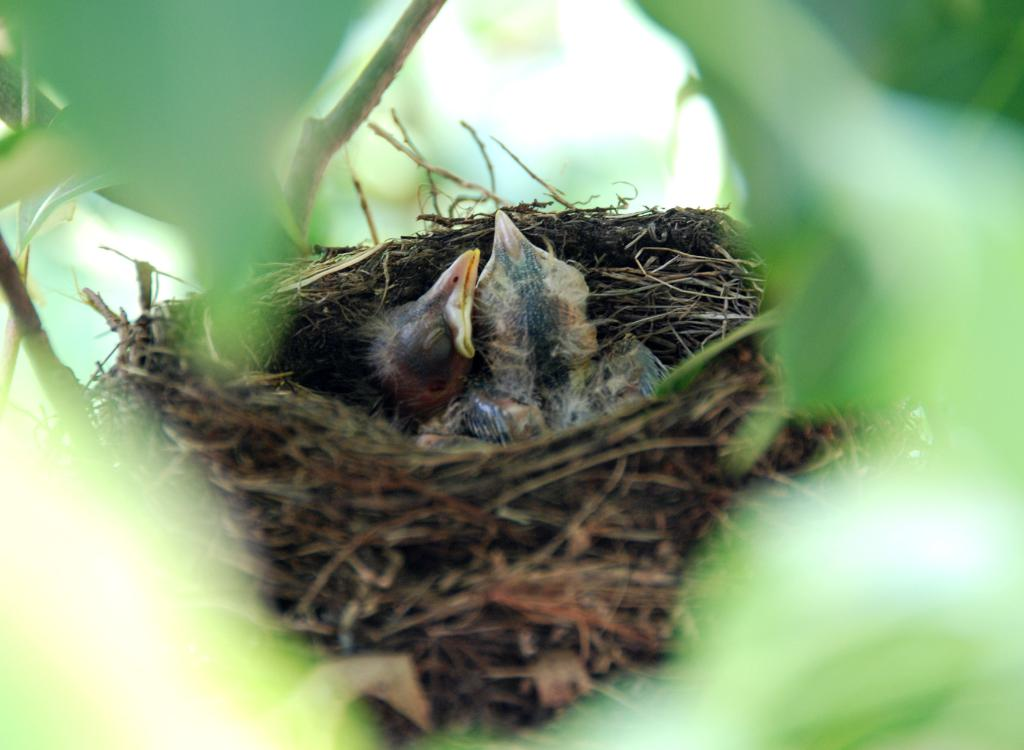Bird: (426, 210, 671, 470), (362, 248, 481, 421)
